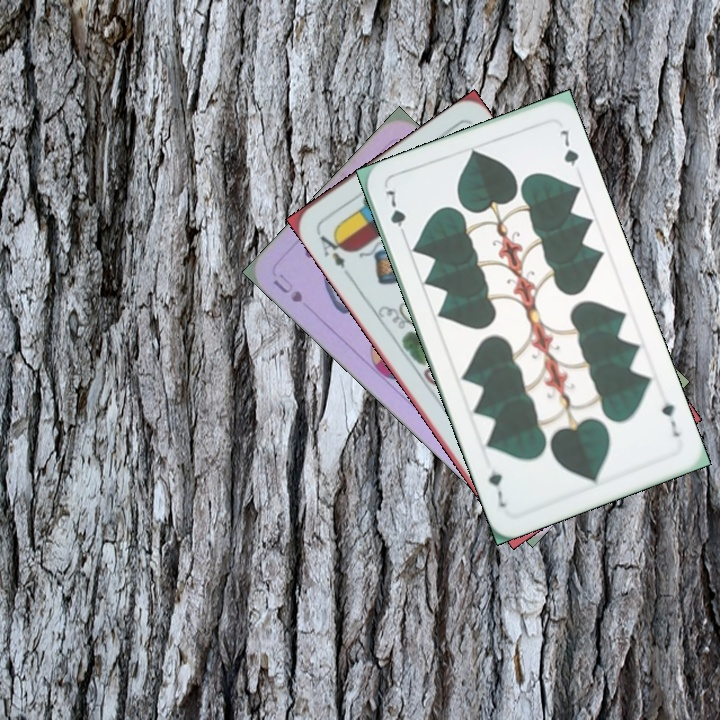EA: (312, 227, 349, 271)
G7: (381, 186, 410, 242), (657, 398, 683, 440)
SU: (269, 269, 305, 305)
